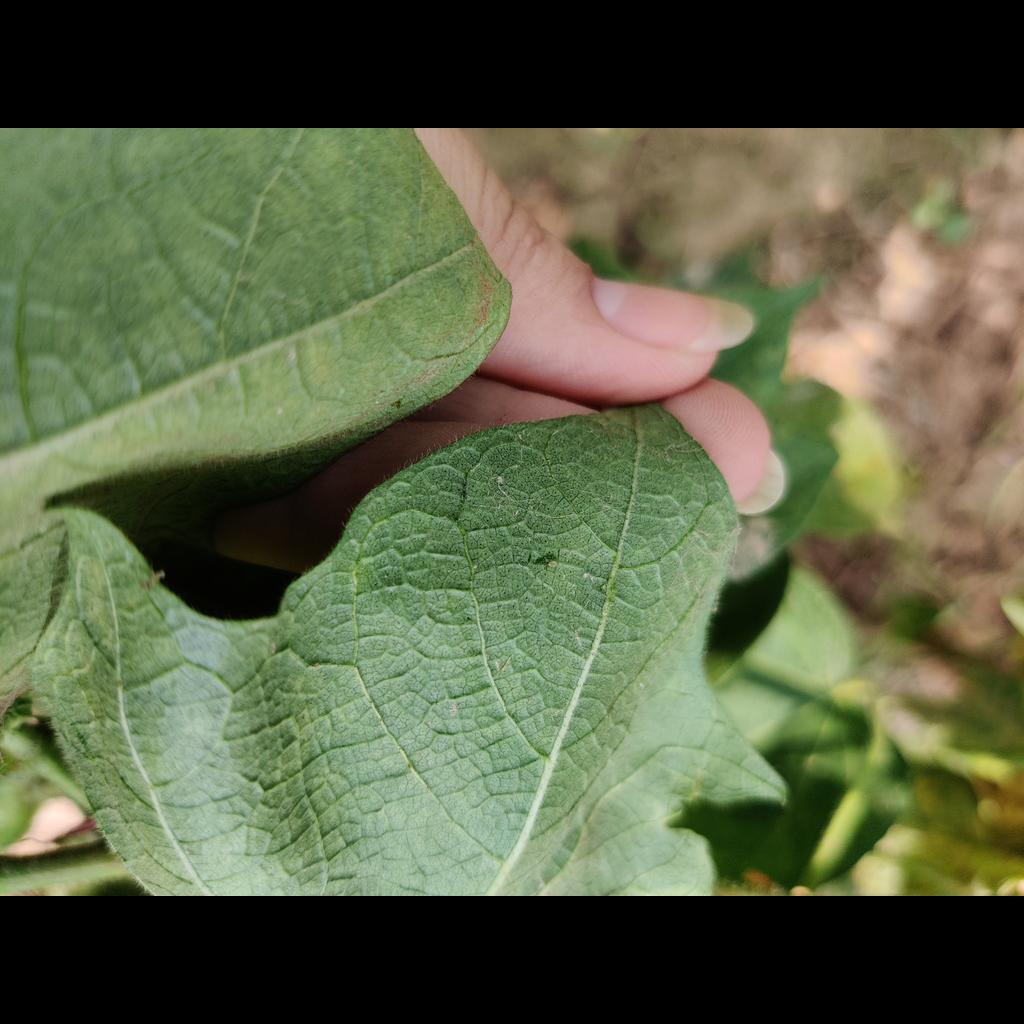nymph: (496, 476, 504, 485), (547, 561, 557, 567), (582, 573, 589, 579), (639, 683, 645, 689)
